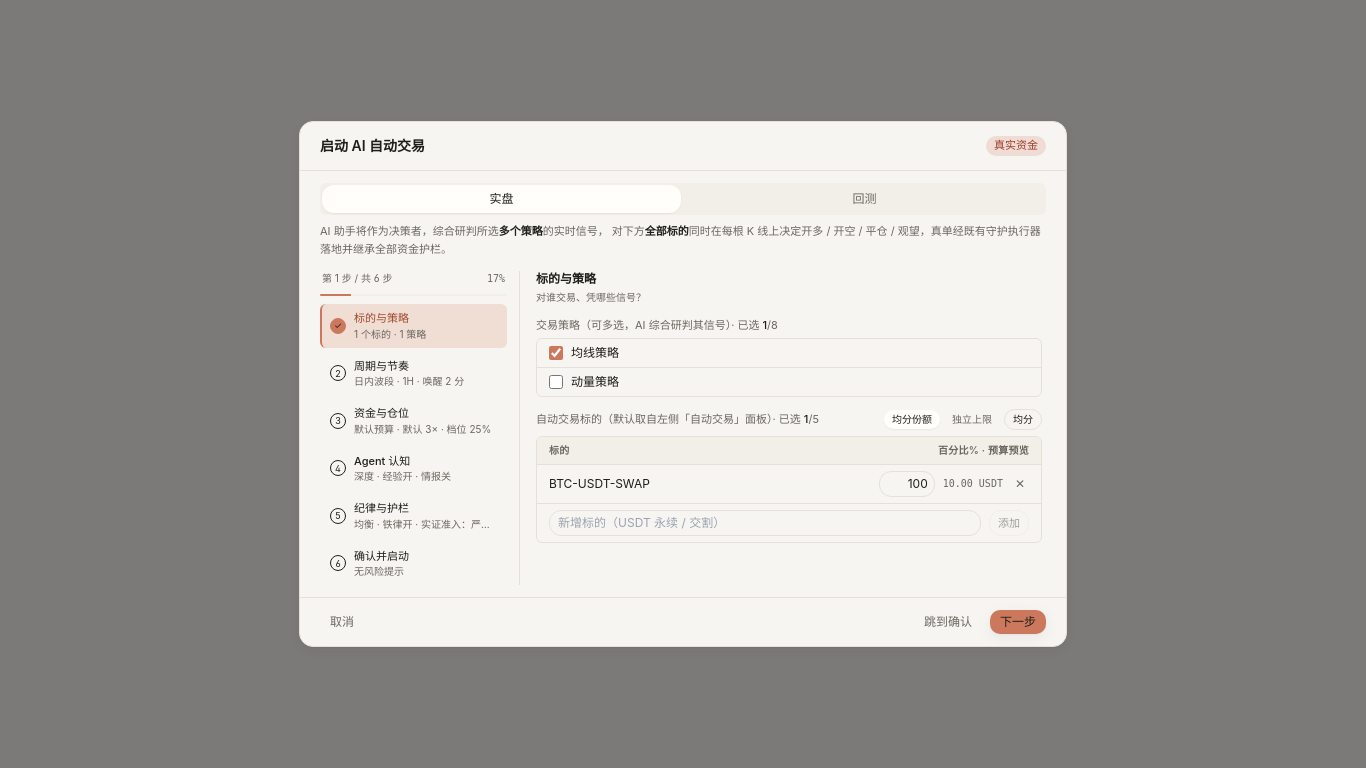
Test case: AiTradeLaunchModal › 取值为 0 的阈值显示「关闭」而不是「0」（显式关闭 ≠ 一个很小的数）
Expected: the text "均线策略" is shown, [571,345,619,361]
Click the tab "纪律与护栏" at (414, 516), box [320,494,507,538]
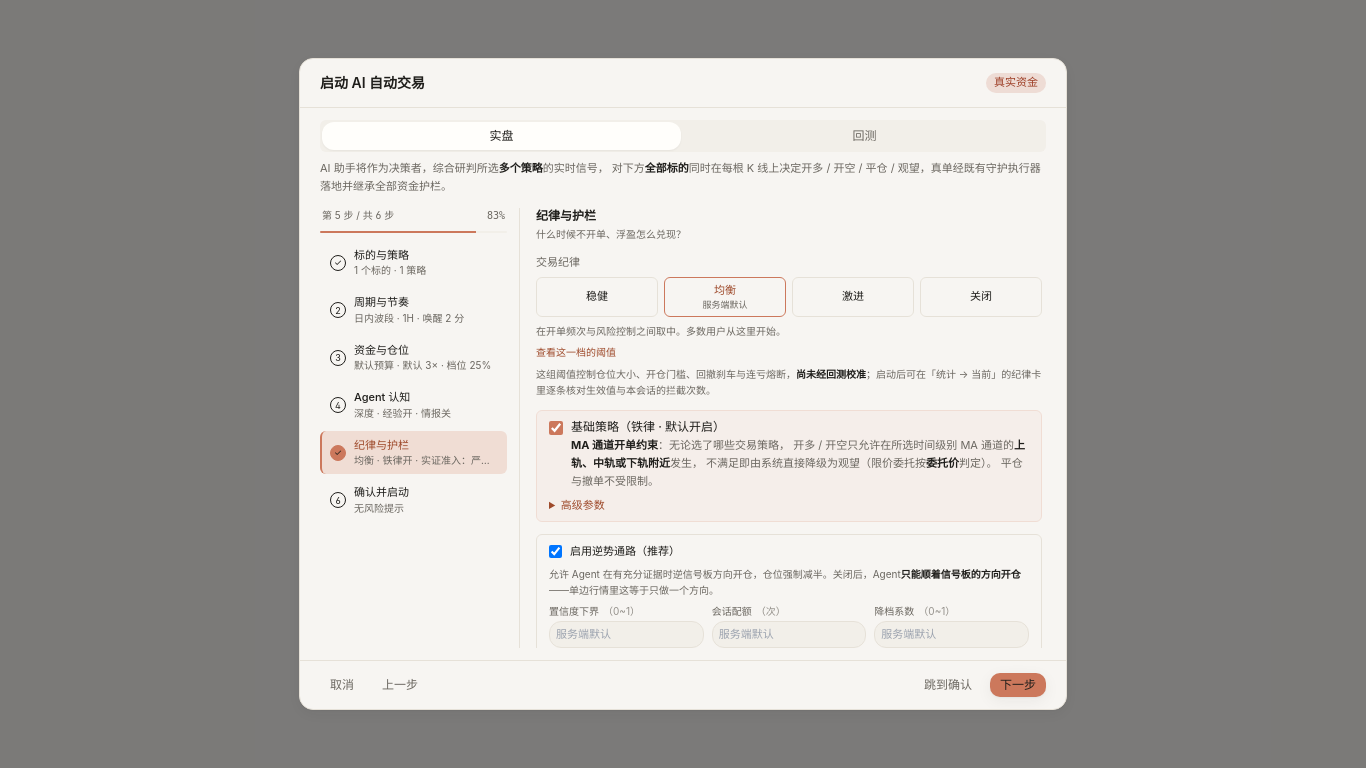
Click the button "激进" at (853, 297), box [792,277,914,317]
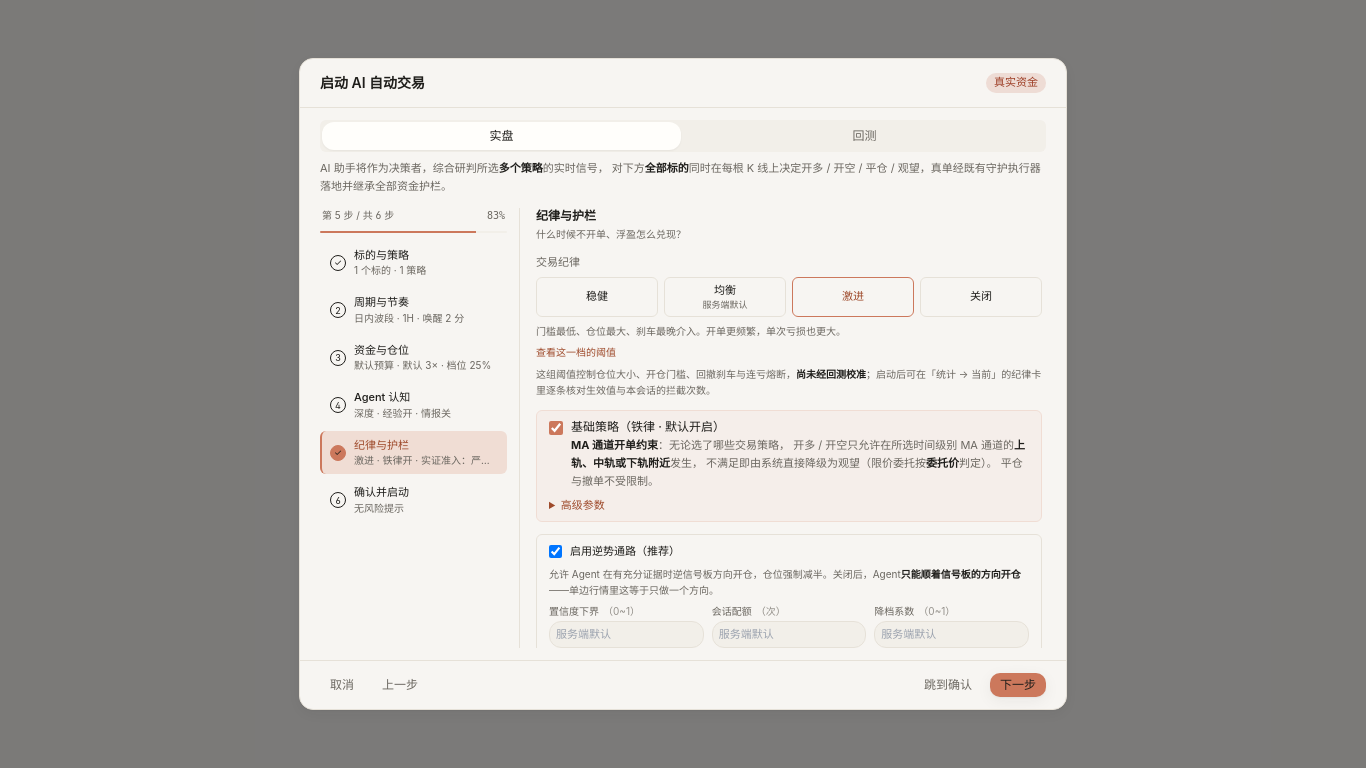
Click the button "查看这一档的阈值" at (576, 352), box [536,345,616,360]
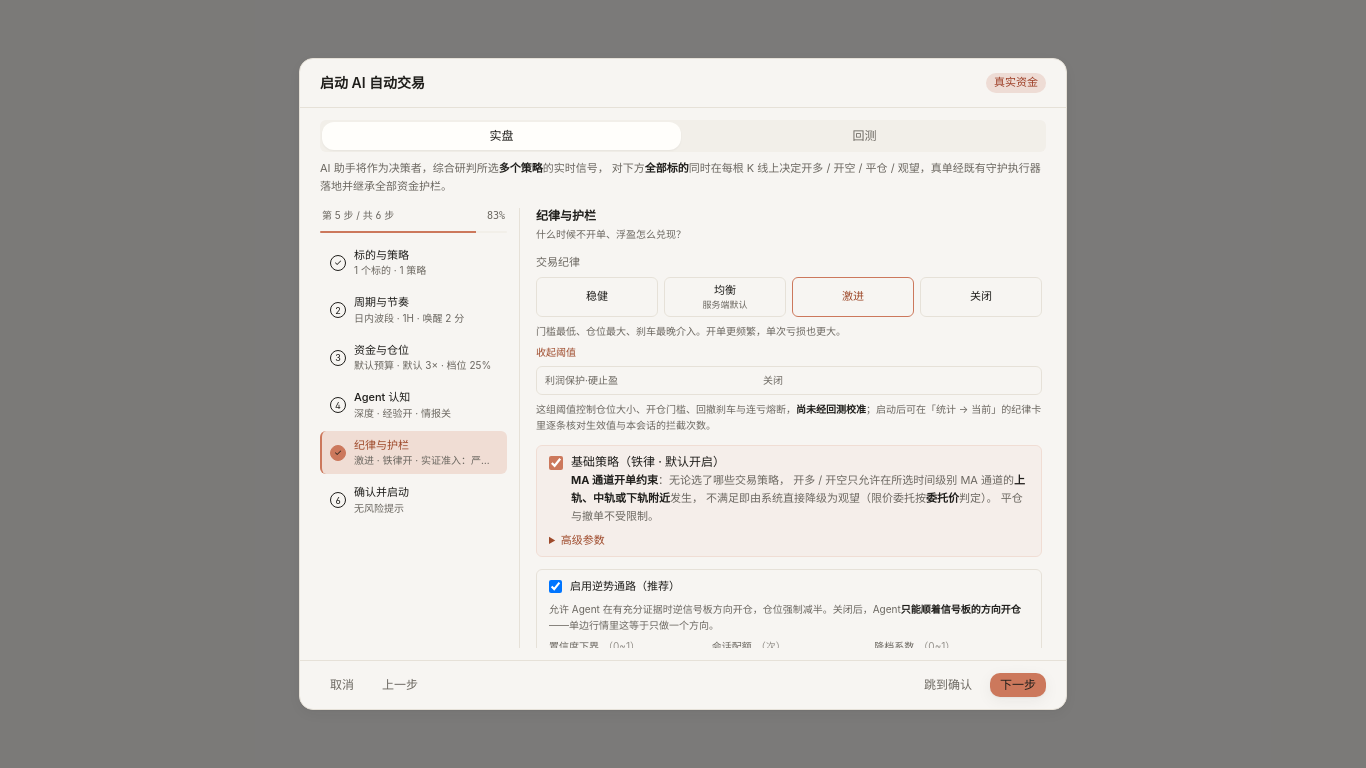
Expected: the element with test id "ai-discipline-threshold-table" shows "利润保护·硬止盈", [545,374,618,386]
Expected: the element with test id "ai-discipline-threshold-table" shows "关闭", [763,375,783,386]
